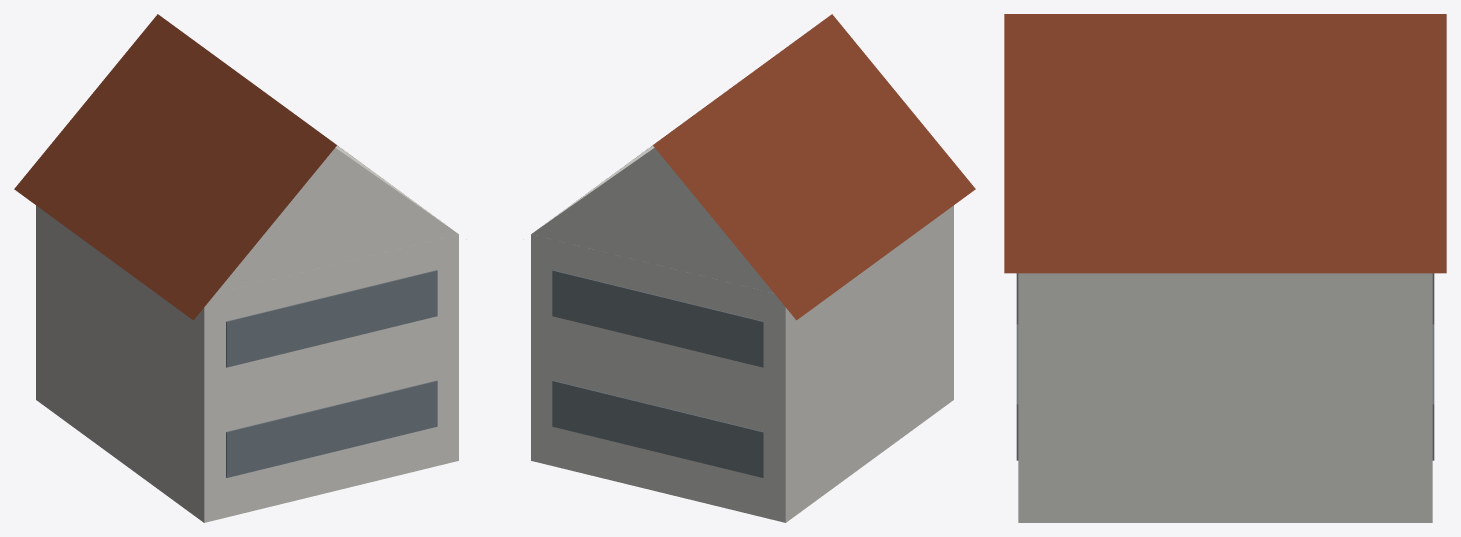
The model's file is cottage-white.tone-v1.lod2.glb.
3 views of the same model, side by side, from view 1: azimuth 30°, elevation 25°; view 2: azimuth 150°, elevation 25°; view 3: azimuth 270°, elevation 25° (orthographic). The views are drawn at different scales.
Parts seen in each view (by area): view 1: cottage-white; view 2: cottage-white; view 3: cottage-white.
Part boxes in pixels (x1,y1,x2,y2): cottage-white: [14, 14, 458, 522]; cottage-white: [531, 14, 975, 522]; cottage-white: [1004, 14, 1446, 522].
Bounding box in the file's own units: 7.9 × 9.21 × 8.54.
